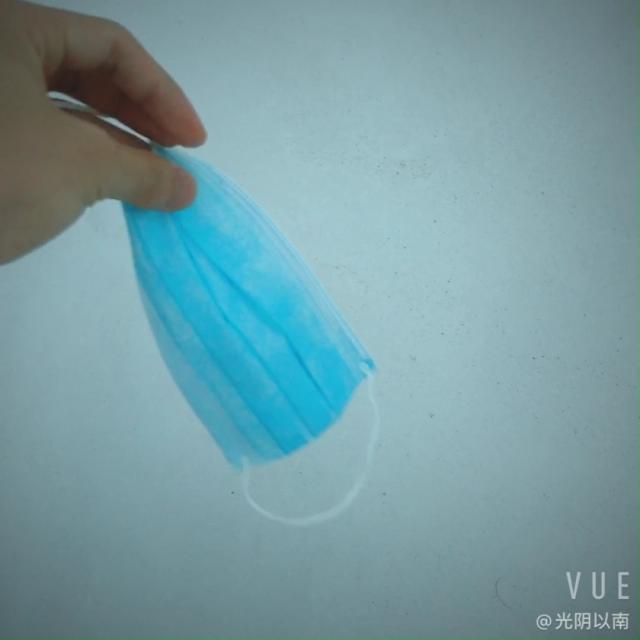non-organic waste: (96, 119, 432, 477)
